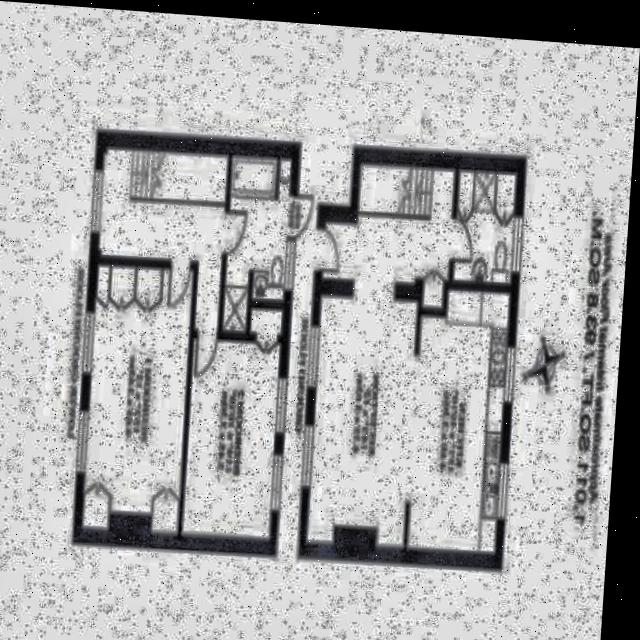room: (82, 265, 194, 534), (308, 297, 419, 547), (409, 290, 511, 554), (97, 147, 228, 328), (183, 306, 282, 539), (321, 163, 456, 311), (223, 157, 293, 334), (455, 171, 518, 286)
